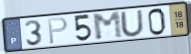0: (146, 7, 167, 36)
3: (24, 19, 44, 47)
5: (73, 13, 94, 43)
M: (91, 11, 125, 42)
P: (47, 16, 69, 46)
U: (119, 8, 146, 38)
